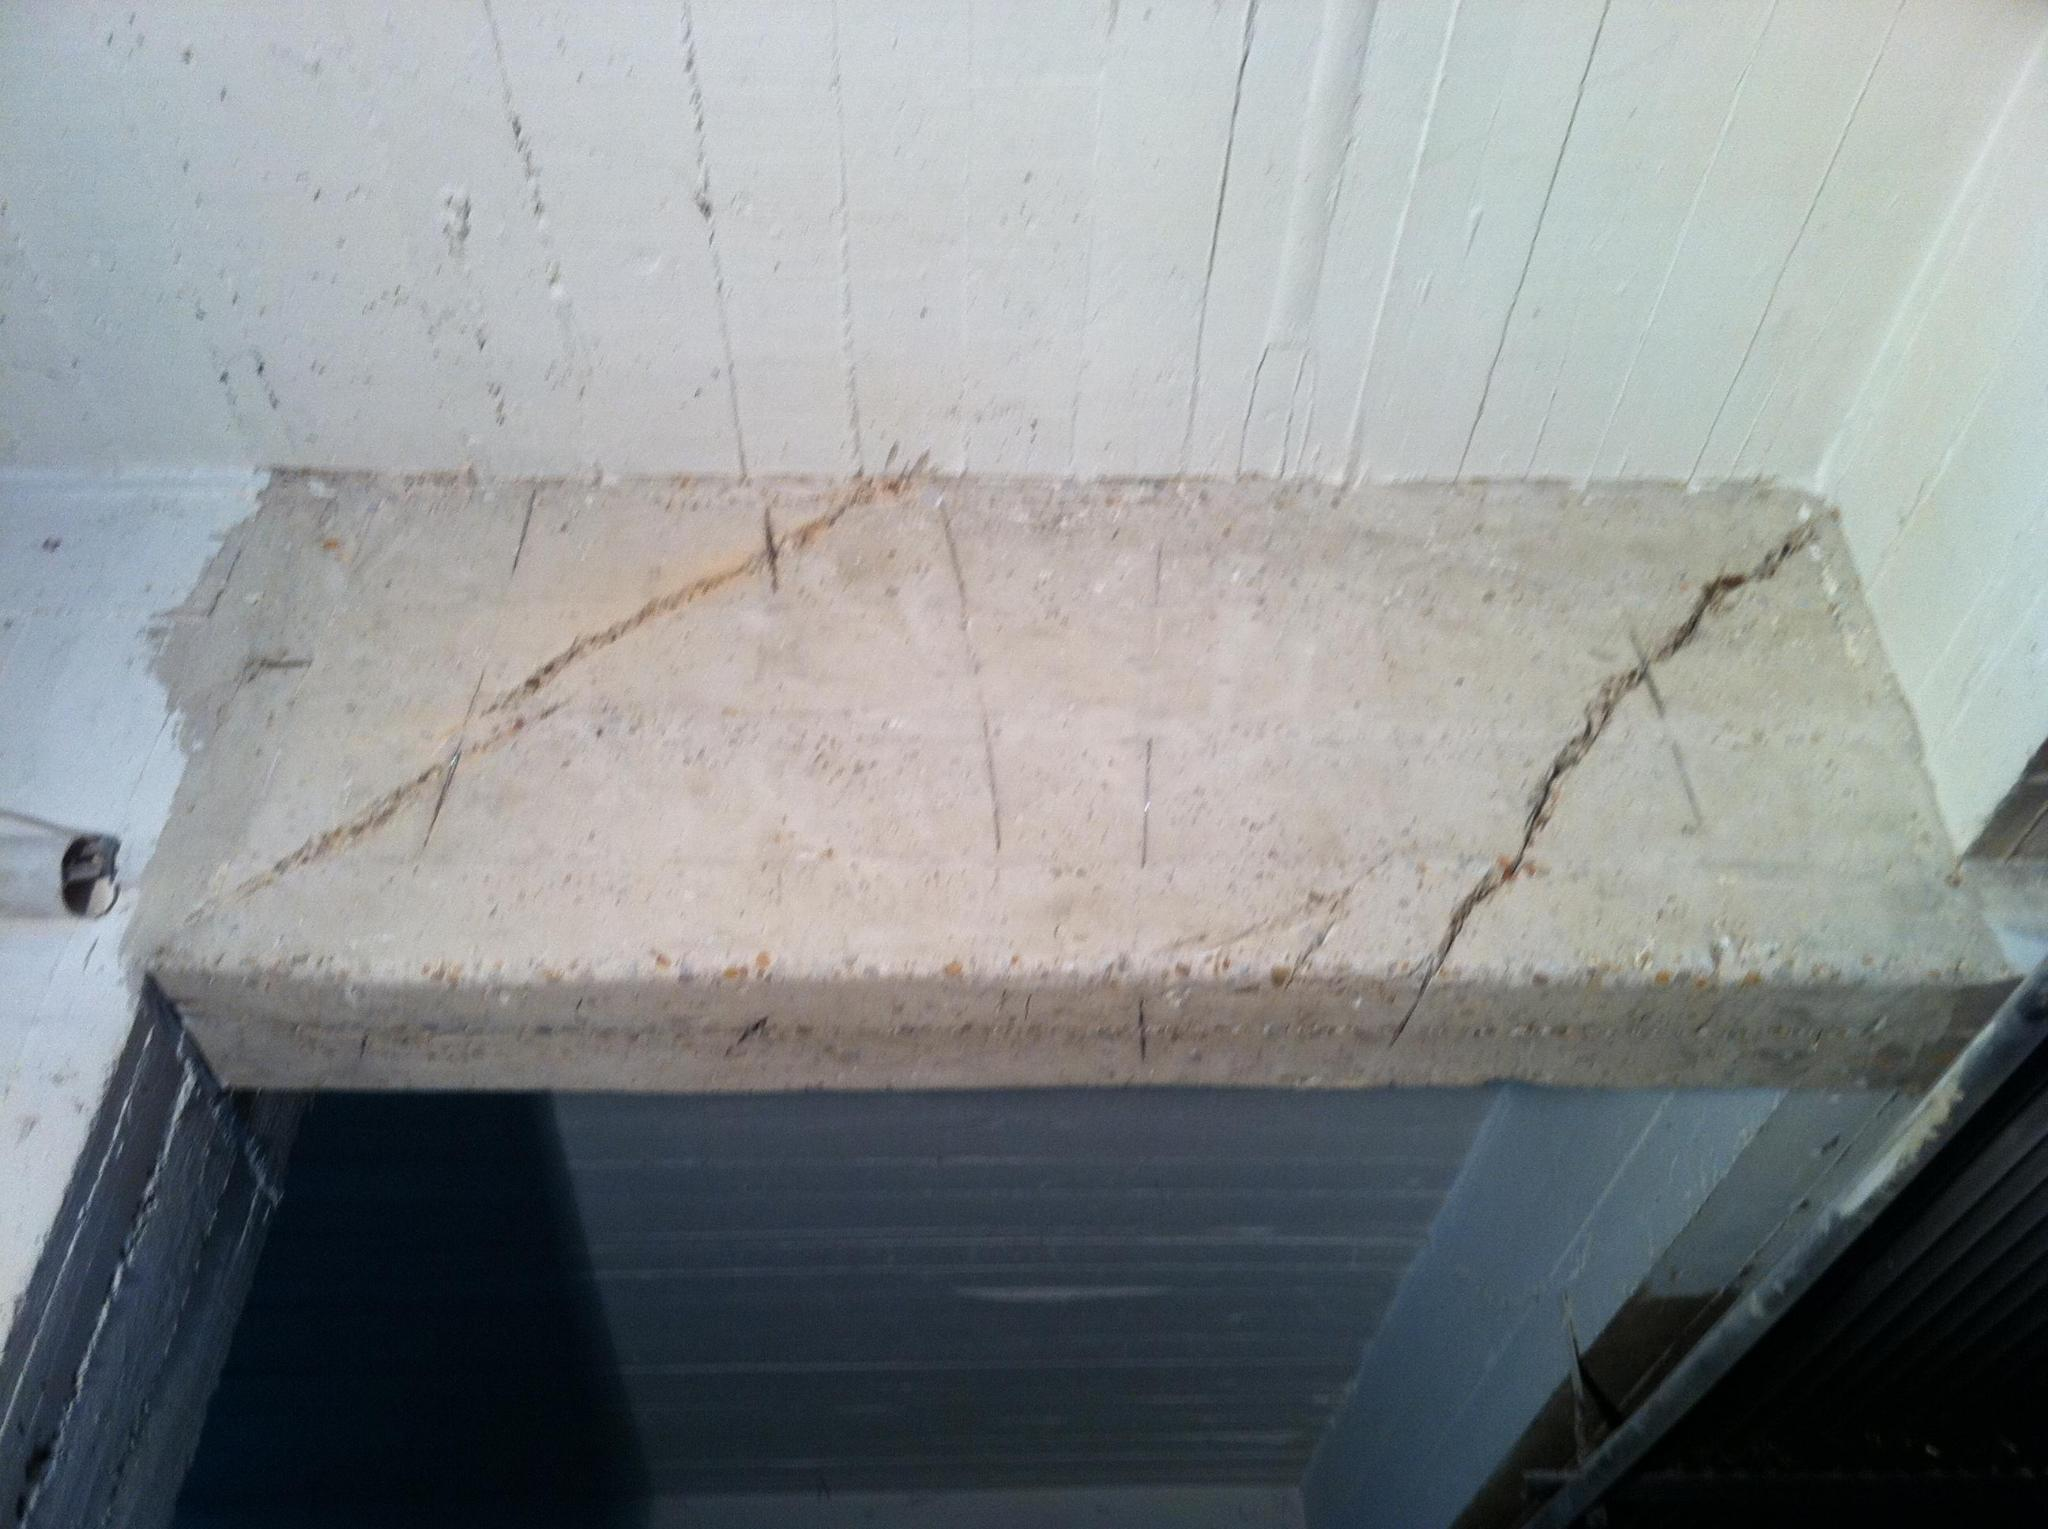crack: (1394, 625, 1669, 1044), (492, 477, 911, 711), (236, 707, 556, 895), (1208, 848, 1397, 999), (1658, 520, 1818, 662), (1674, 742, 1706, 827)
